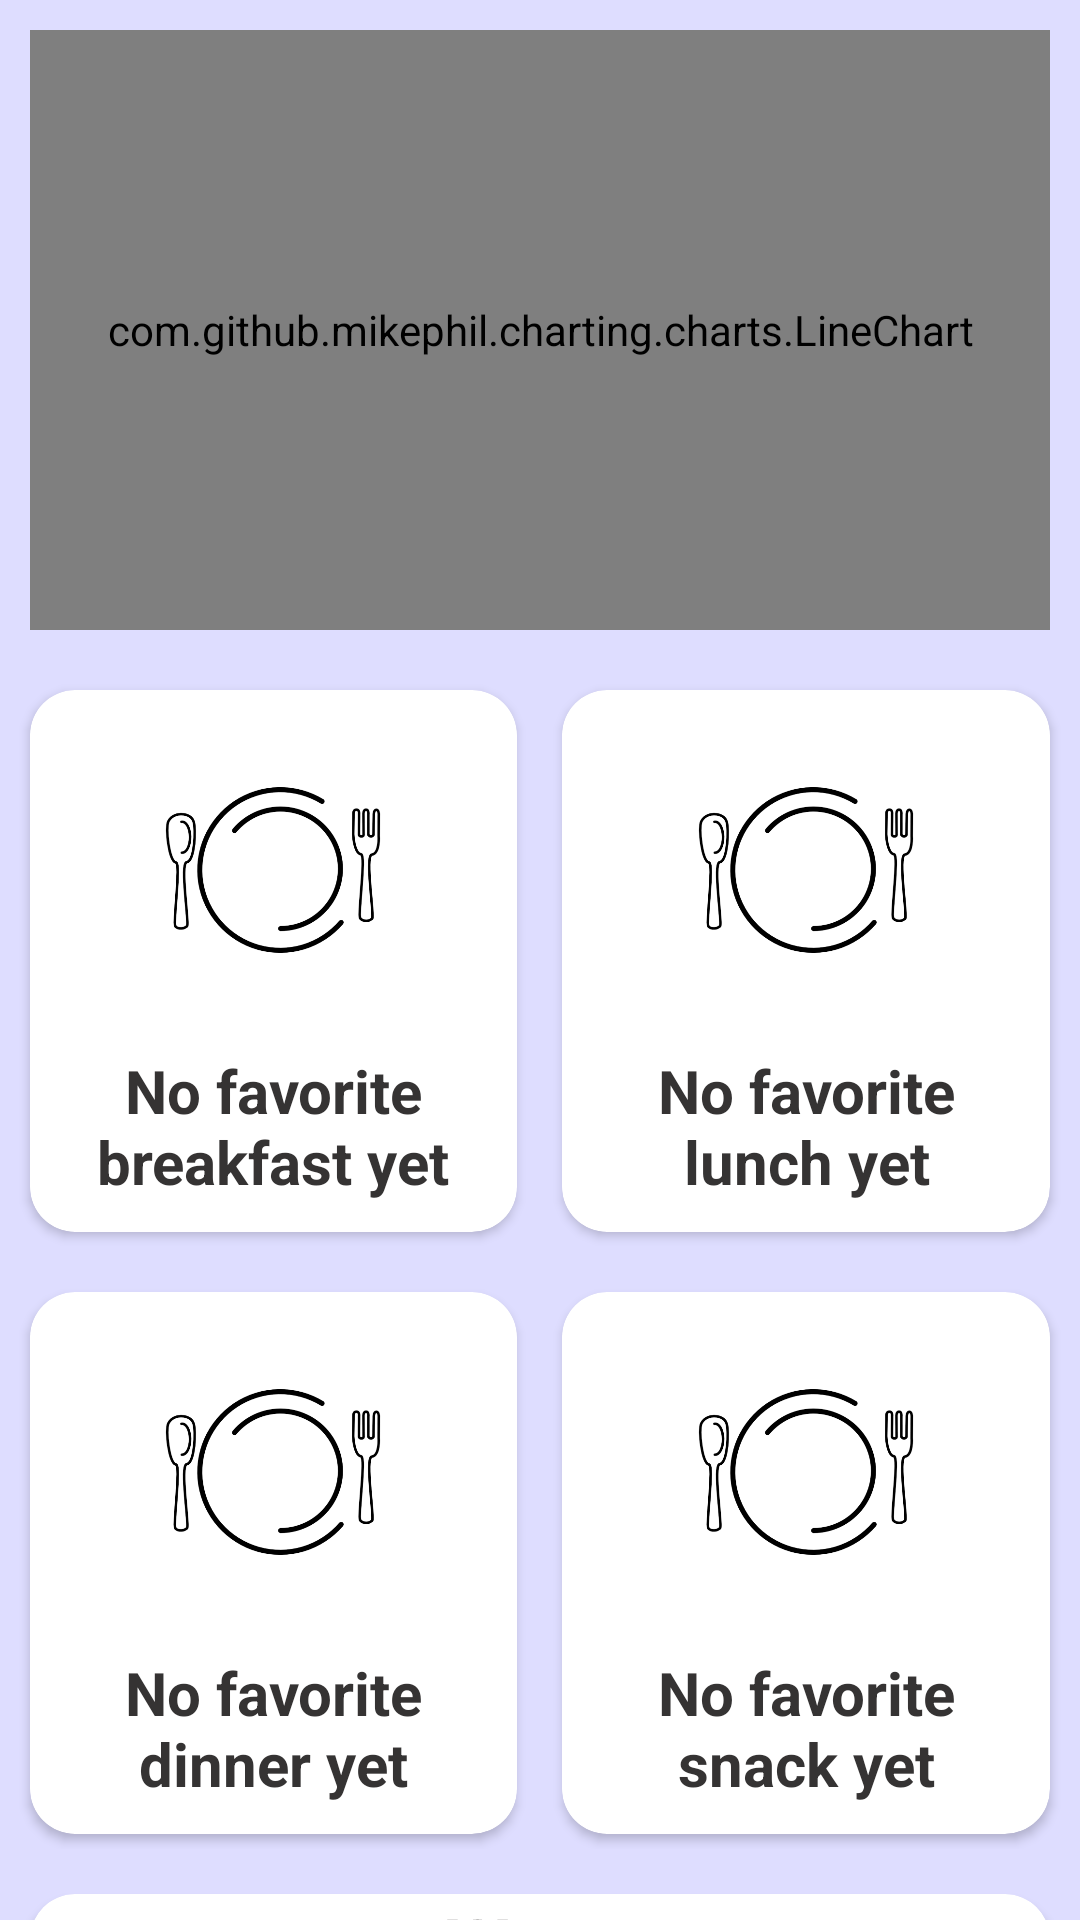

Screen size 1080px×1920px. Icon name, then its center in pixels as (x=x, y=y):
no food: (x=273, y=870), (x=806, y=870), (x=273, y=1472), (x=806, y=1472)
